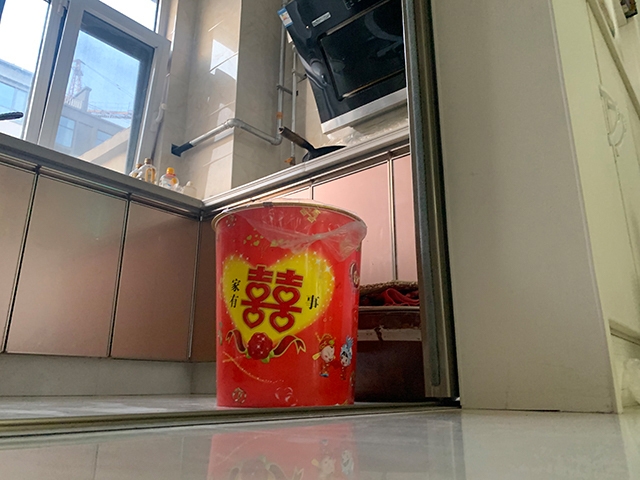cabinet: (431, 1, 640, 415), (1, 133, 215, 396)
trashcan: (209, 200, 369, 412)
